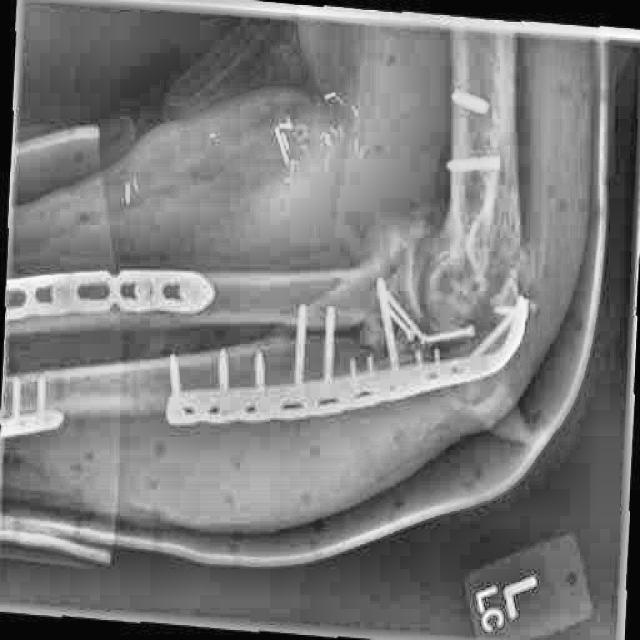elbow positive: (298, 247, 372, 337), (471, 231, 544, 319)
